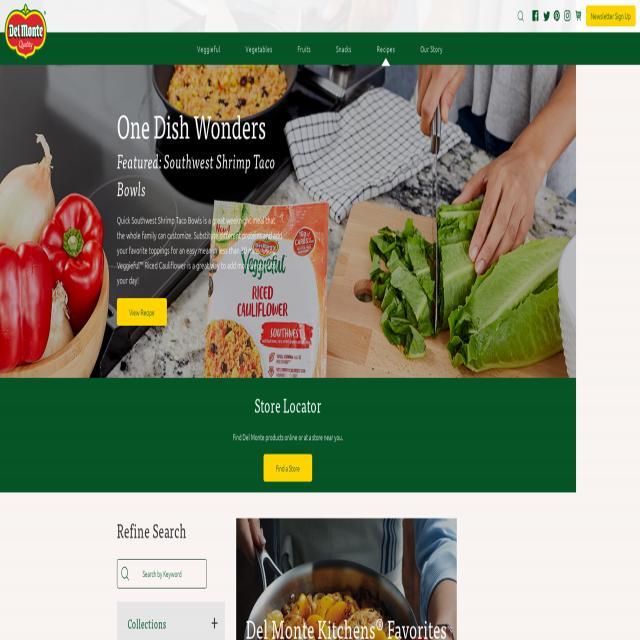button: (236, 517, 457, 640), (116, 602, 225, 638), (4, 4, 46, 60), (117, 298, 167, 326), (264, 454, 312, 482), (586, 6, 636, 27), (121, 567, 129, 580), (575, 10, 582, 22), (532, 10, 538, 22), (554, 10, 560, 22), (564, 10, 570, 22), (518, 10, 524, 22), (544, 10, 550, 22)
field: (117, 559, 207, 588)
